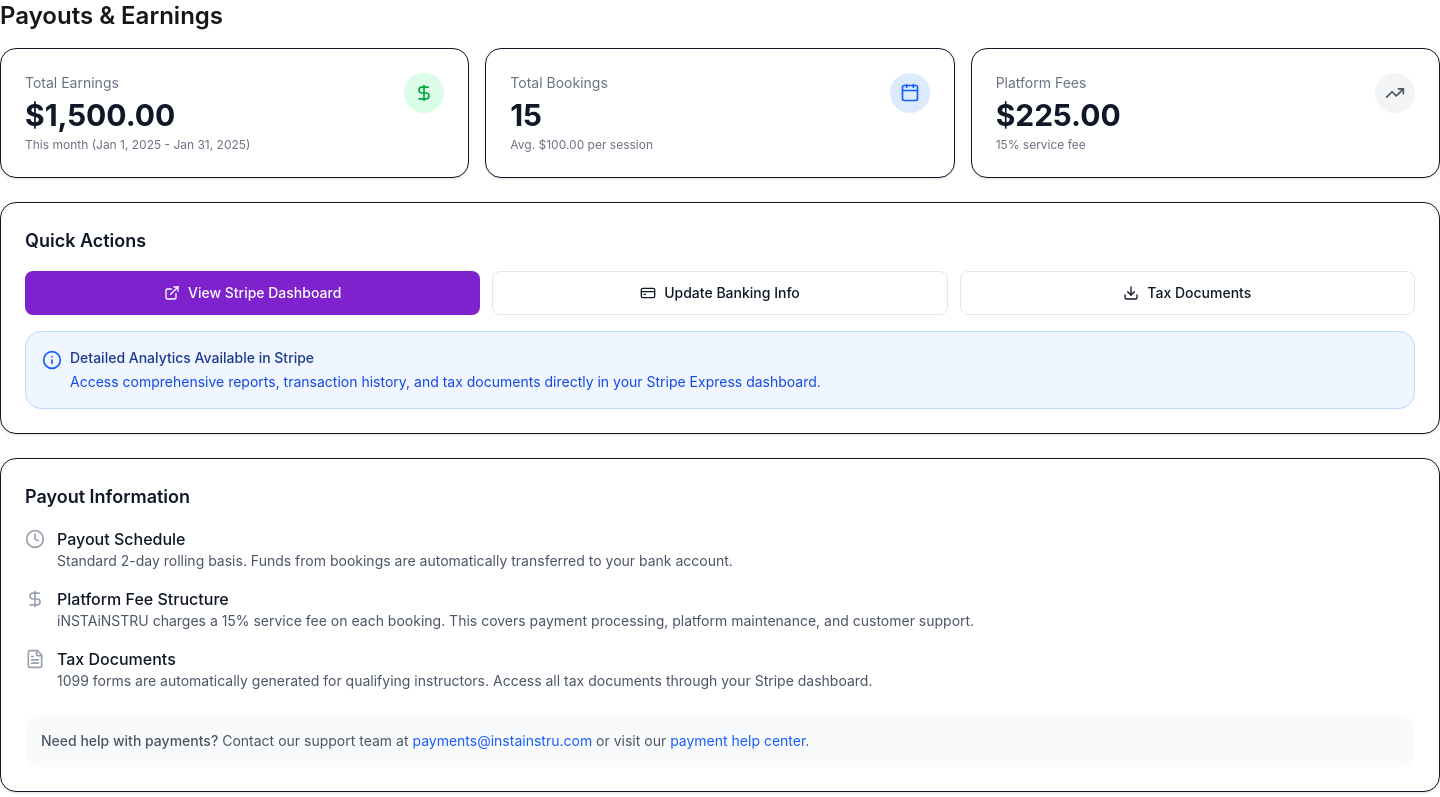
Test: PayoutsDashboard › quick actions › shows error message when dashboard link fails
Click the button "View Stripe Dashboard" at (253, 293), box [25,271,480,315]
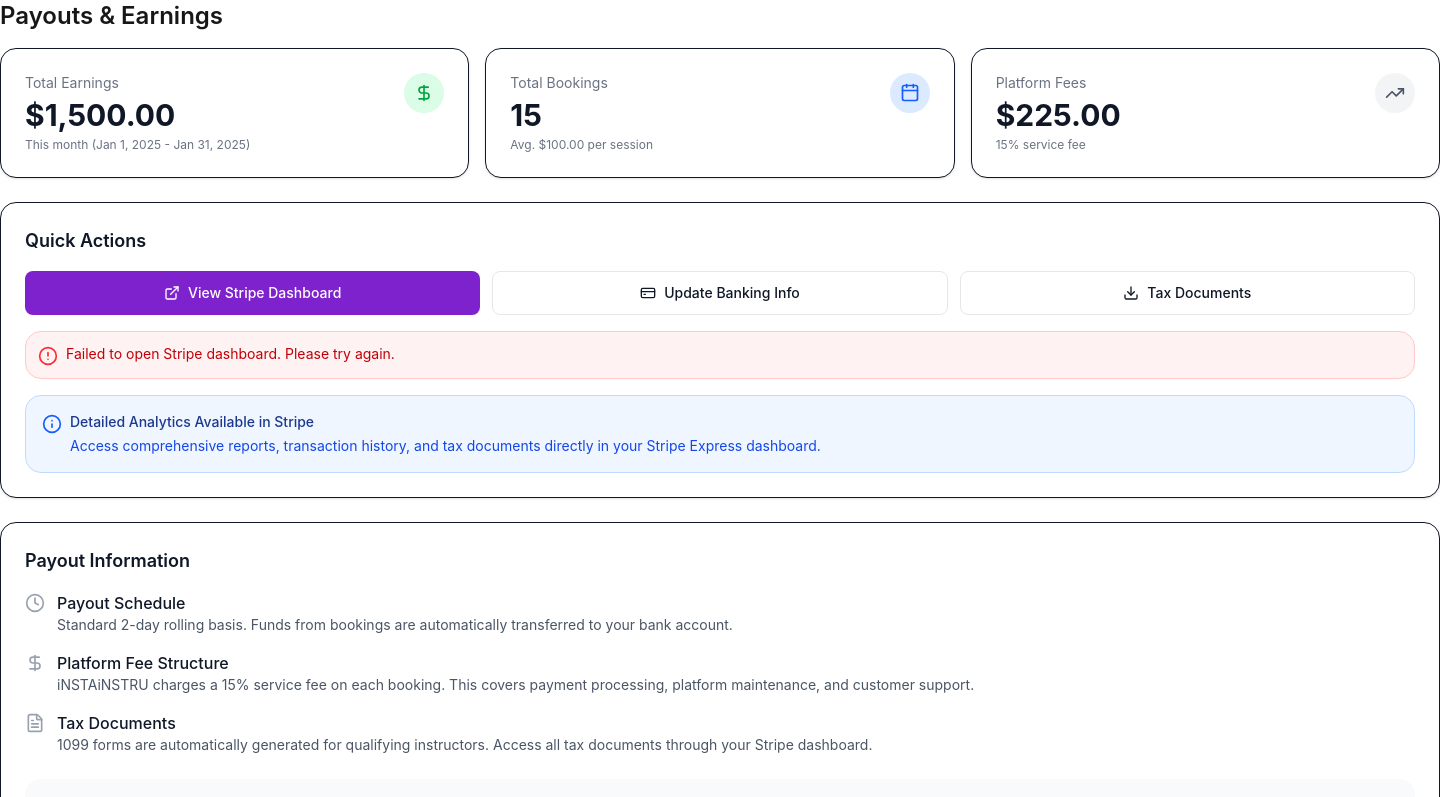
Check: the text "Failed to open Stripe dashboard. Please try again." is shown, box [66,344,395,364]
